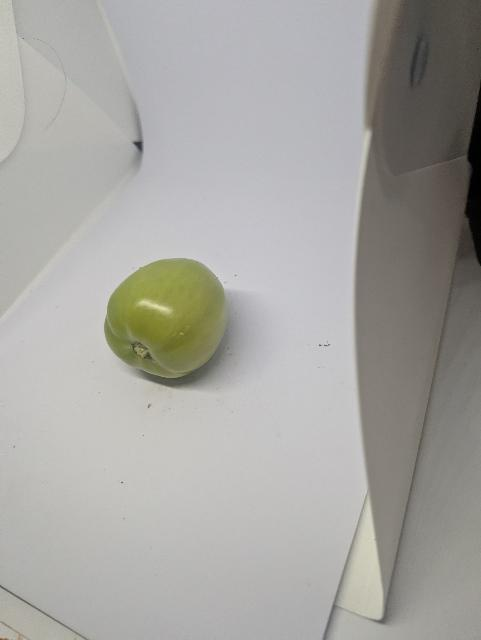green: (90, 238, 236, 395)
